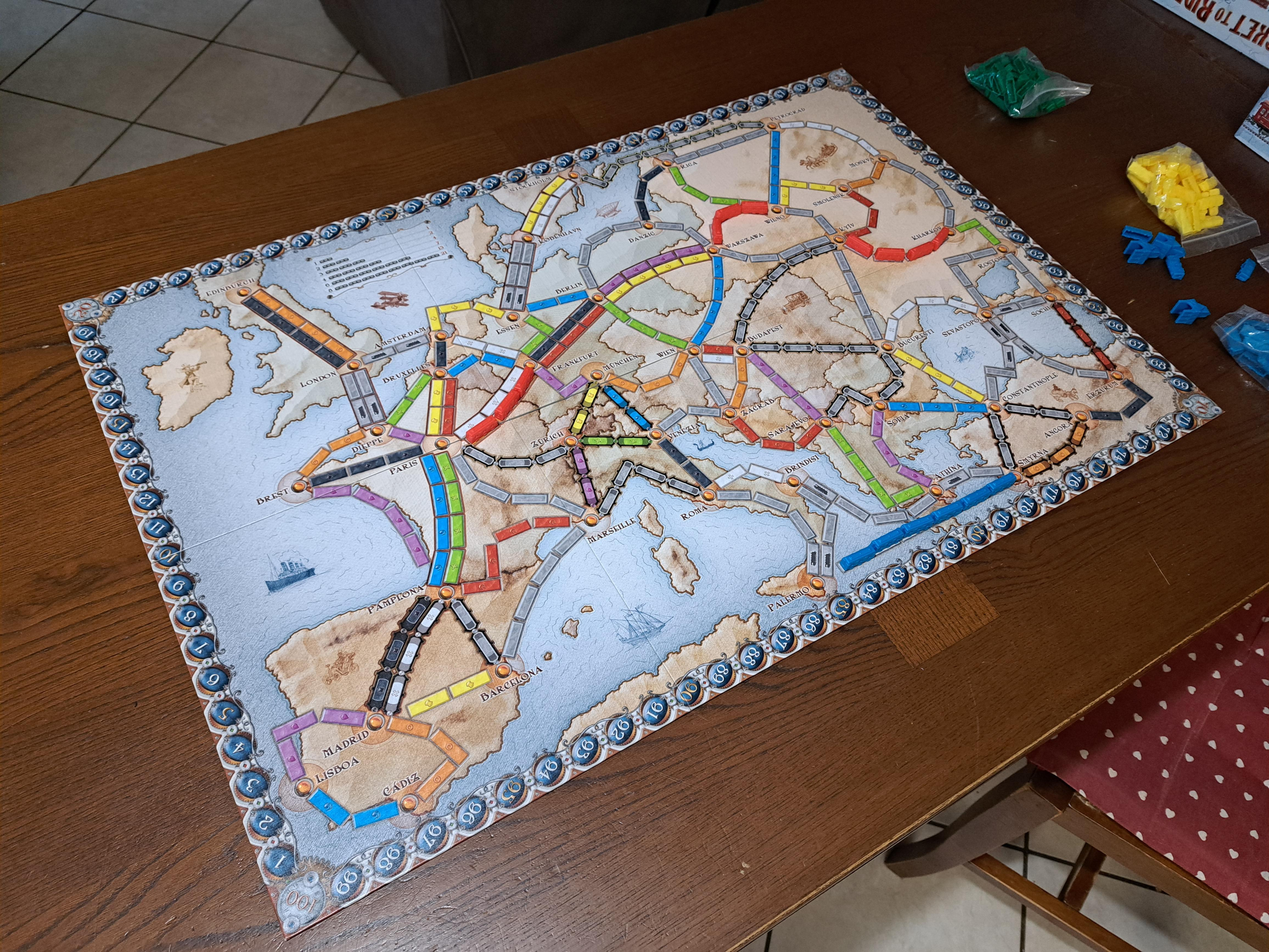corner_bl: (268, 866, 335, 939)
corner_br: (1181, 391, 1224, 424)
corner_tl: (59, 295, 106, 326)
corner_tr: (823, 67, 856, 87)
